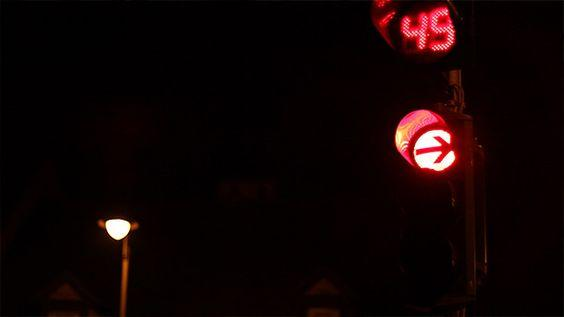red: (357, 0, 484, 218)
